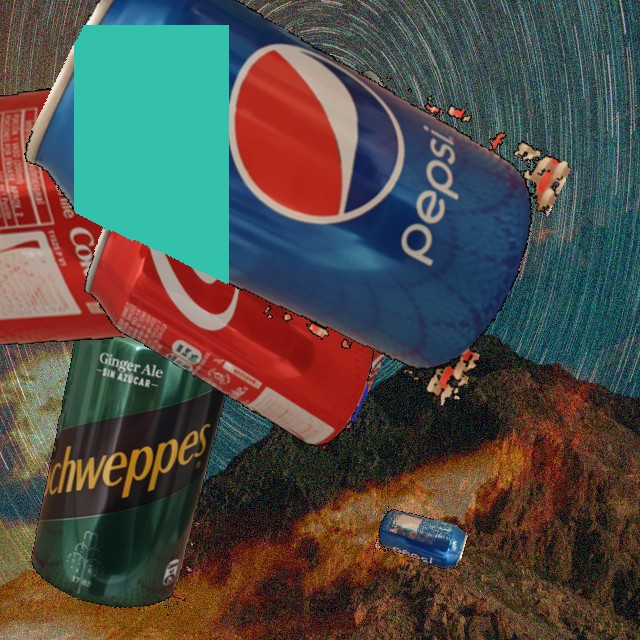coca cola: (0, 39, 458, 372), (68, 177, 408, 449), (280, 307, 411, 428)
pepsi: (0, 0, 621, 495), (372, 505, 468, 573)
schweppes: (20, 284, 245, 622)
sprite: (349, 186, 484, 267)
